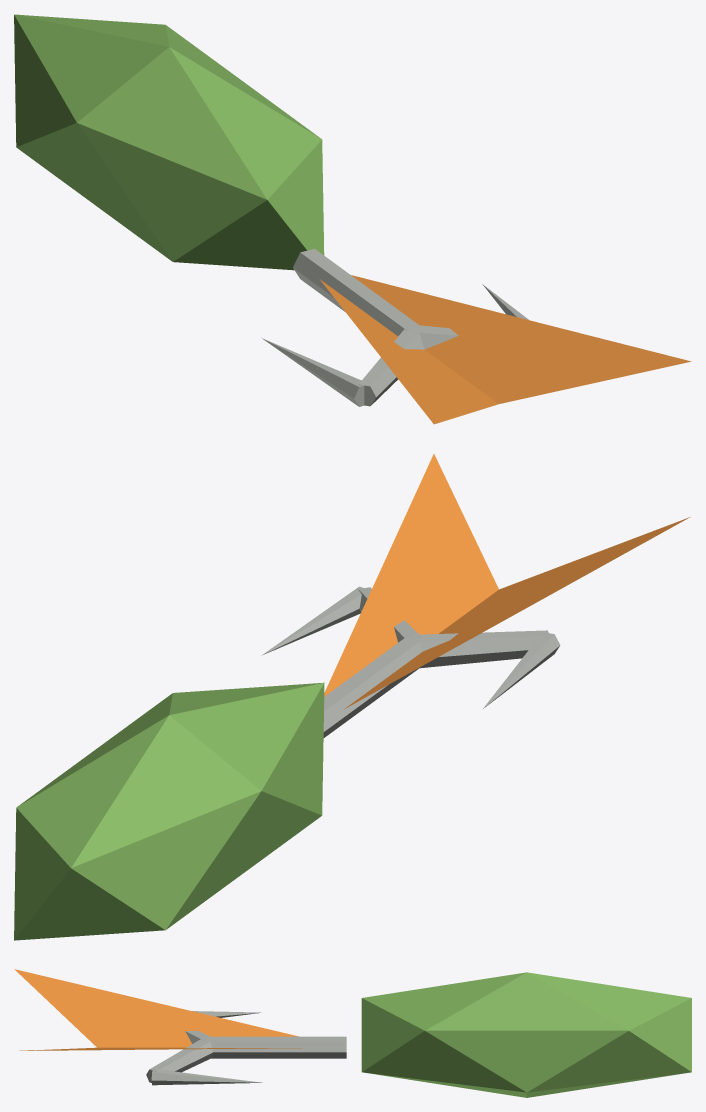
File: BeginnerLure.fbx
3 views of the same model, one above another, from view 1: azimuth 30°, elevation 25°; view 2: azimuth 150°, elevation 25°; view 3: azimuth 270°, elevation 25° (orthographic). The views are drawn at different scales.
Visible parts, largest first — view 1: LureBody, Feather-1, Feather1, HookStem, HookTip1, Hook1, Hook-1; view 2: LureBody, Feather-1, Feather1, HookStem, Hook1, HookTip-1, HookTip1; view 3: LureBody, Feather1, HookStem, Hook-1, HookTip-1, Feather-1, HookTip1.
Part boxes in pixels (bbox=[...]): LureBody: bbox=[14, 14, 324, 270]; Feather-1: bbox=[351, 275, 691, 403]; Feather1: bbox=[319, 279, 498, 424]; HookStem: bbox=[293, 249, 420, 336]; HookTip1: bbox=[262, 338, 364, 406]; Hook1: bbox=[358, 328, 424, 406]; Hook-1: bbox=[413, 325, 458, 349]; LureBody: bbox=[14, 682, 324, 940]; Feather-1: bbox=[324, 454, 498, 696]; Feather1: bbox=[344, 517, 690, 709]; HookStem: bbox=[323, 636, 422, 737]; Hook1: bbox=[413, 630, 549, 668]; HookTip-1: bbox=[261, 586, 363, 655]; HookTip1: bbox=[482, 633, 560, 709]; LureBody: bbox=[361, 972, 691, 1097]; Feather1: bbox=[14, 969, 298, 1047]; HookStem: bbox=[208, 1036, 346, 1058]; Hook-1: bbox=[146, 1037, 212, 1082]; HookTip-1: bbox=[151, 1069, 262, 1085]; Feather-1: bbox=[19, 1047, 301, 1050]; HookTip1: bbox=[192, 1011, 260, 1017].
Size of the model in its own units: 0.07 by 0.05 by 0.2445.
